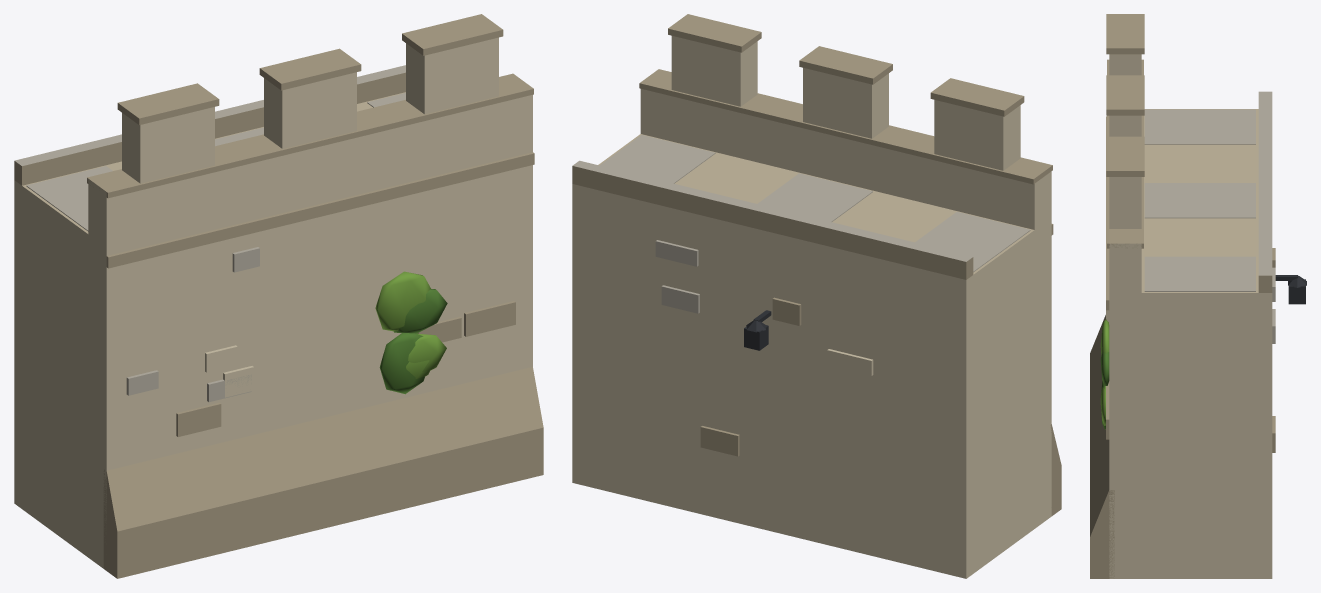
Rendered from castle_wall_short.glb.
3 renders of one model, left to right at view 1: azimuth 30°, elevation 25°; view 2: azimuth 150°, elevation 25°; view 3: azimuth 270°, elevation 25°, orthographic. The views are drawn at different scales.
Visible parts, largest first — view 1: LOD0; view 2: LOD0; view 3: LOD0.
Part boxes in pixels (left/top/right/bottom): LOD0: left=14, top=14, right=543, bottom=578; LOD0: left=572, top=14, right=1061, bottom=578; LOD0: left=1090, top=14, right=1306, bottom=578.
Bounding box in the file's own units: 8 × 8 × 3.98.
1 material, 1 textured.
